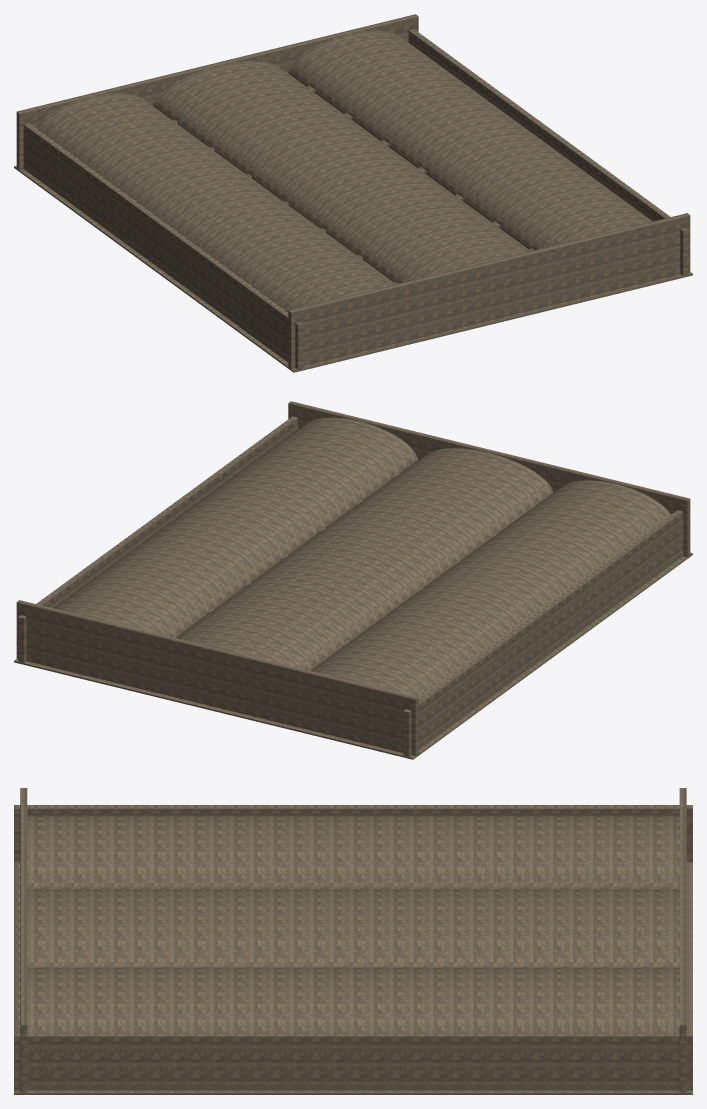
The model's file is crypt.glb.
The picture shows the model from 3 angles, top to bottom: view 1: azimuth 30°, elevation 25°; view 2: azimuth 150°, elevation 25°; view 3: azimuth 270°, elevation 25°; orthographic projection. The views are drawn at different scales.
Visible parts, largest first — view 1: Barrel vault.001, Barrel vault.002, Barrel vault, Crypt end wall, Catacomb retaining wall, Catacomb retaining wall.001, Crypt end wall.001, Crypt paving; view 2: Barrel vault.001, Barrel vault.002, Barrel vault, Crypt end wall.001, Catacomb retaining wall, Catacomb retaining wall.001, Crypt end wall, Crypt paving; view 3: Barrel vault.001, Barrel vault, Barrel vault.002, Catacomb retaining wall.001, Catacomb retaining wall, Crypt paving, Crypt end wall, Crypt end wall.001.
Boxes of the visible parts, x1,y1,x2,y2 form: Barrel vault.001: [153, 61, 530, 283]; Barrel vault.002: [288, 30, 652, 250]; Barrel vault: [36, 93, 395, 312]; Crypt end wall: [288, 213, 690, 368]; Catacomb retaining wall: [23, 123, 303, 369]; Catacomb retaining wall.001: [408, 29, 688, 275]; Crypt end wall.001: [16, 14, 418, 169]; Crypt paving: [14, 165, 692, 372]; Barrel vault.001: [176, 448, 553, 670]; Barrel vault.002: [54, 417, 418, 637]; Barrel vault: [311, 480, 670, 699]; Crypt end wall.001: [16, 600, 418, 755]; Catacomb retaining wall: [403, 510, 683, 756]; Catacomb retaining wall.001: [18, 416, 298, 662]; Crypt end wall: [288, 401, 690, 556]; Crypt paving: [14, 552, 692, 759]; Barrel vault.001: [27, 888, 679, 967]; Barrel vault: [27, 815, 679, 888]; Barrel vault.002: [27, 967, 679, 1032]; Catacomb retaining wall.001: [14, 1033, 692, 1090]; Catacomb retaining wall: [14, 805, 692, 862]; Crypt paving: [14, 862, 692, 1094]; Crypt end wall: [20, 788, 27, 1092]; Crypt end wall.001: [679, 788, 686, 1092].
Bounding box in the file's own units: 56 × 7.84 × 68.
Materials: 5 (1 with a texture image).
